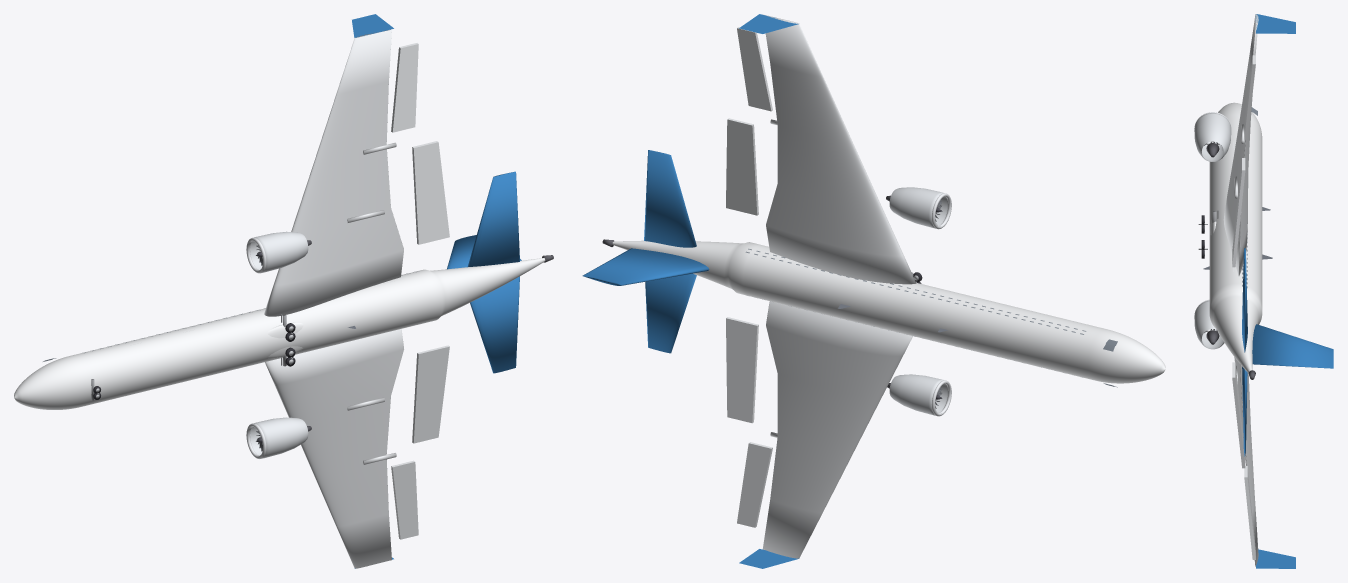
The picture shows the model from 3 angles, left to right: view 1: azimuth 30°, elevation 25°; view 2: azimuth 150°, elevation 25°; view 3: azimuth 270°, elevation 25°; orthographic projection.
Parts seen in each view (by area): view 1: Fuselage, Wing_R, Wing_L, HStab_R, HStab_L, Flap_R, Flap_L, Aileron_R, Aileron_L, Nacelle_-1_0, Nacelle_1_0; view 2: Fuselage, Wing_L, Wing_R, HStab_R, Flap_L, Fin, HStab_L, Flap_R, Aileron_L, Aileron_R, Nacelle_-1_0, Nacelle_1_0; view 3: Fuselage, Wing_R, Fin, Nacelle_1_0, Wing_L, Nacelle_-1_0, Sharklet_R, Sharklet_L, Flap_R, Flap_L, HStab_R, Aileron_L (+2 smaller).
Boxes of the visible parts, x1,y1,x2,y2 form: Fuselage: (14,258,545,409); Wing_R: (264,29,403,316); Wing_L: (265,329,403,568); HStab_R: (467,171,519,266); HStab_L: (470,276,519,373); Flap_R: (412,141,449,244); Flap_L: (412,345,449,443); Aileron_R: (391,43,418,132); Aileron_L: (391,460,418,539); Nacelle_-1_0: (250,417,308,458); Nacelle_1_0: (250,231,308,272); Fuselage: (612,240,1165,383); Wing_L: (762,301,912,558); Wing_R: (763,14,916,284); HStab_R: (644,150,696,247); Flap_L: (726,317,758,423); Fin: (582,248,709,285); HStab_L: (645,273,696,353); Flap_R: (726,118,758,215); Aileron_L: (737,442,772,527); Aileron_R: (737,27,772,111); Nacelle_-1_0: (889,374,948,415); Nacelle_1_0: (889,187,948,228); Fuselage: (1209,102,1262,372); Wing_R: (1223,14,1258,275); Fin: (1252,324,1333,368); Nacelle_1_0: (1194,113,1231,161); Wing_L: (1234,357,1258,566); Nacelle_-1_0: (1194,300,1224,349); Sharklet_R: (1255,14,1295,33); Sharklet_L: (1256,549,1295,568); Flap_R: (1232,158,1245,267); Flap_L: (1232,362,1245,468); HStab_R: (1242,248,1247,352); Aileron_L: (1244,466,1255,559).
Size of the model in its own units: 36.47 by 33.72 by 7.95.
